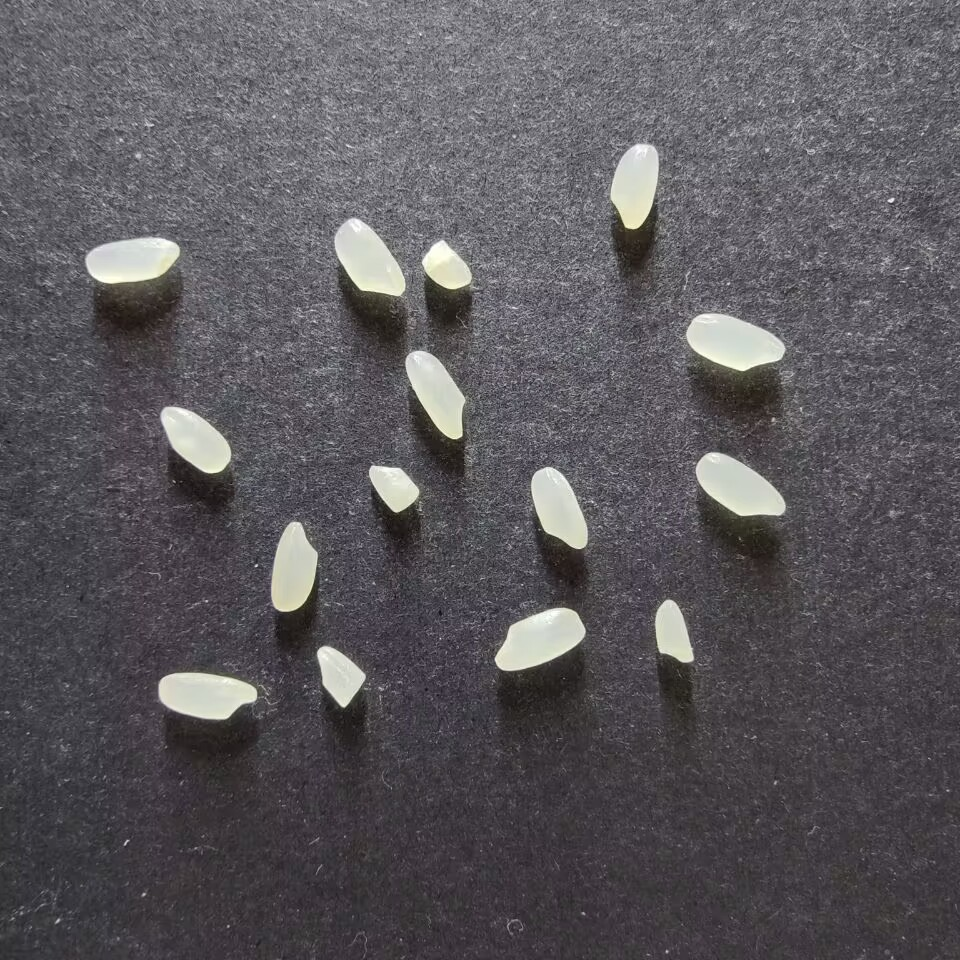broken: (315, 645, 367, 708), (367, 464, 421, 514), (421, 240, 472, 290)
rice: (694, 451, 786, 519), (493, 607, 586, 672), (685, 313, 786, 372), (333, 217, 406, 298), (404, 350, 466, 440), (159, 405, 231, 474), (530, 466, 589, 550), (157, 671, 258, 720), (84, 237, 180, 284), (608, 143, 659, 230), (269, 520, 317, 612), (654, 599, 694, 666)
